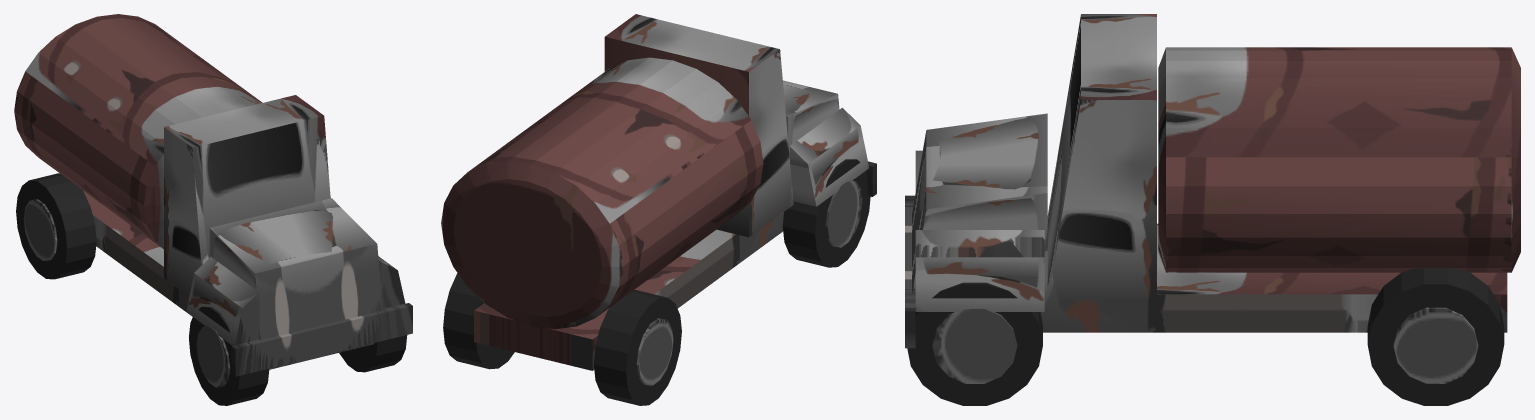
File: Building_AncientChemtruck.obj
The picture shows the model from 3 angles, left to right: view 1: azimuth 30°, elevation 25°; view 2: azimuth 150°, elevation 25°; view 3: azimuth 270°, elevation 25°; orthographic projection. The views are drawn at different scales.
Parts seen in each view (by area): view 1: Body; view 2: Body; view 3: Body.
Boxes of the visible parts, <box> form: Body: <box>14,14,412,405</box>; Body: <box>441,14,876,405</box>; Body: <box>905,14,1520,405</box>.
Size of the model in its own units: 1.8 by 2.14 by 4.06.
Materials: 1 (1 with a texture image).
